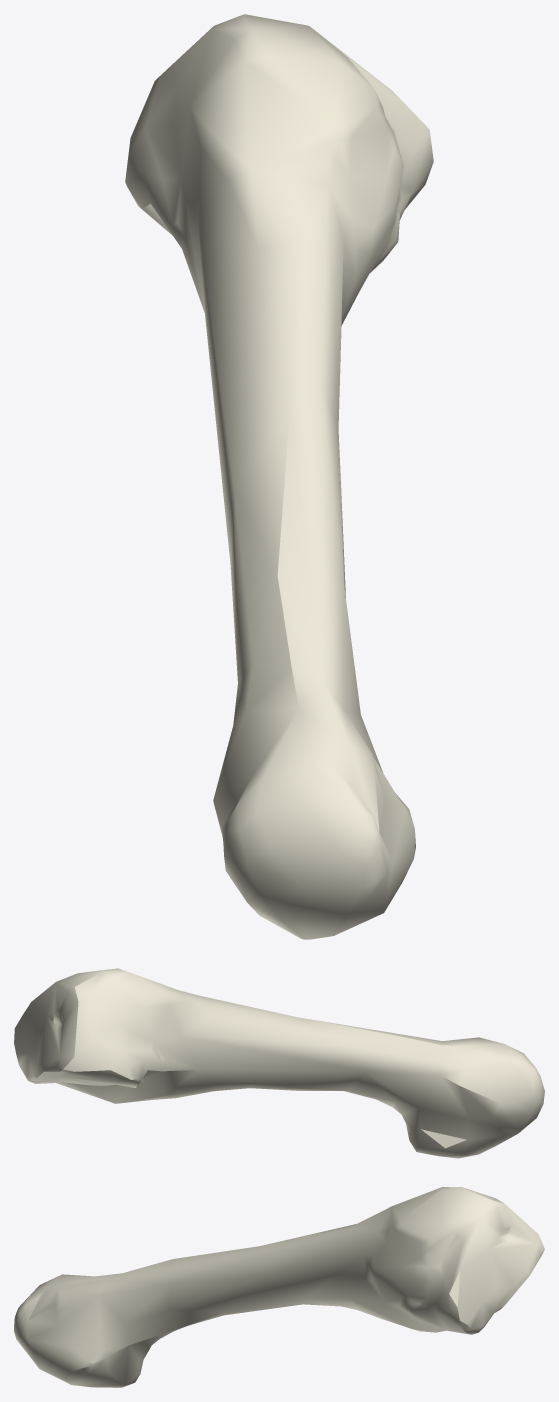
File: fma24513_fj3357.glb
The picture shows the model from 3 angles, top to bottom: view 1: azimuth 30°, elevation 25°; view 2: azimuth 150°, elevation 25°; view 3: azimuth 270°, elevation 25°; orthographic projection. The views are drawn at different scales.
Visible parts, largest first — view 1: FMA24513_FJ3357; view 2: FMA24513_FJ3357; view 3: FMA24513_FJ3357.
Boxes of the visible parts, x1=… form: FMA24513_FJ3357: x1=125, y1=14, x2=433, y2=939; FMA24513_FJ3357: x1=14, y1=968, x2=544, y2=1158; FMA24513_FJ3357: x1=14, y1=1187, x2=544, y2=1387.
Size of the model in its own units: 0.0408 by 0.0354 by 0.0627.
